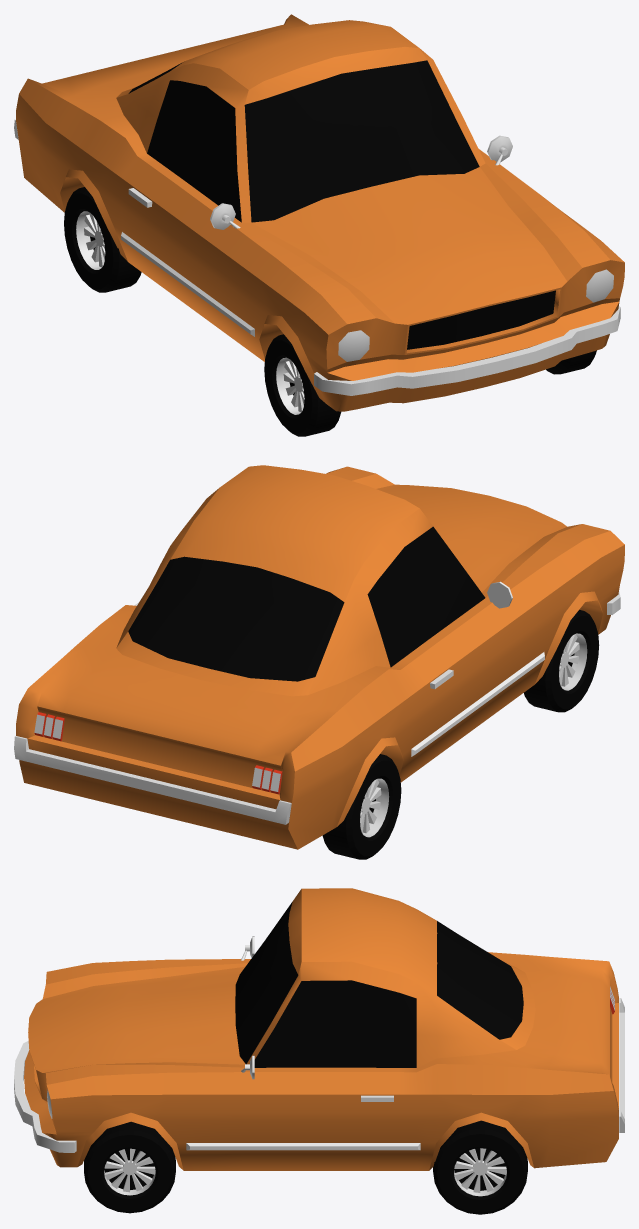
The model's file is Car1.fbx.
The picture shows the model from 3 angles, top to bottom: view 1: azimuth 30°, elevation 25°; view 2: azimuth 150°, elevation 25°; view 3: azimuth 270°, elevation 25°; orthographic projection. The views are drawn at different scales.
Visible parts, largest first — view 1: Mustang, Circle.009, Circle.001, Circle.002, Circle.010, Circle.008; view 2: Mustang, Circle.002, Circle.001, Circle.011, Circle.003, Circle.010; view 3: Mustang, Circle.002, Circle.001, Circle.010, Circle.009, Circle.011.
Boxes of the visible parts, x1,y1,x2,y2 form: Mustang: [16, 14, 624, 411]; Circle.009: [314, 306, 620, 395]; Circle.001: [264, 334, 596, 436]; Circle.002: [64, 187, 141, 292]; Circle.010: [121, 232, 254, 336]; Circle.008: [210, 135, 512, 229]; Mustang: [16, 465, 624, 849]; Circle.002: [322, 754, 401, 859]; Circle.001: [524, 610, 599, 712]; Circle.011: [14, 736, 291, 824]; Circle.003: [34, 712, 282, 794]; Circle.010: [411, 652, 544, 756]; Mustang: [24, 888, 618, 1170]; Circle.002: [433, 1120, 527, 1214]; Circle.001: [84, 1121, 175, 1213]; Circle.010: [186, 1143, 420, 1150]; Circle.009: [14, 1041, 76, 1152]; Circle.011: [619, 998, 624, 1132].
Size of the model in its own units: 132 by 112 by 258.
